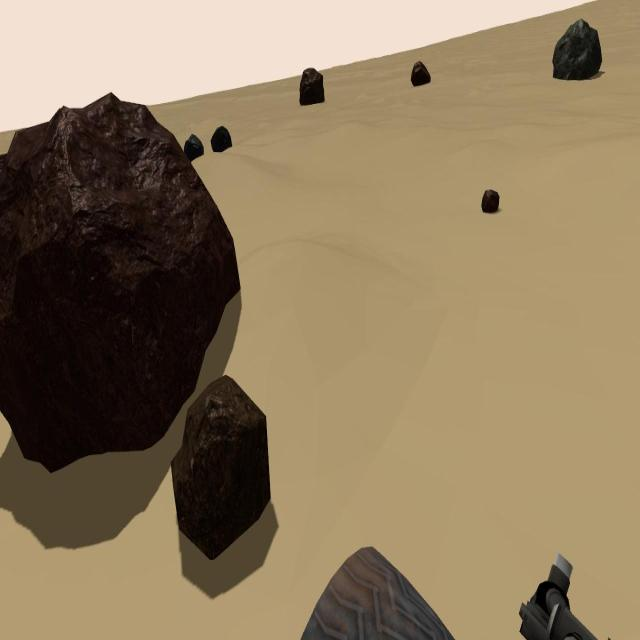rock: (0, 92, 241, 474), (170, 374, 271, 560), (553, 18, 602, 80), (300, 67, 325, 105), (184, 132, 204, 160), (210, 127, 232, 152), (411, 62, 431, 86), (482, 190, 499, 213)
